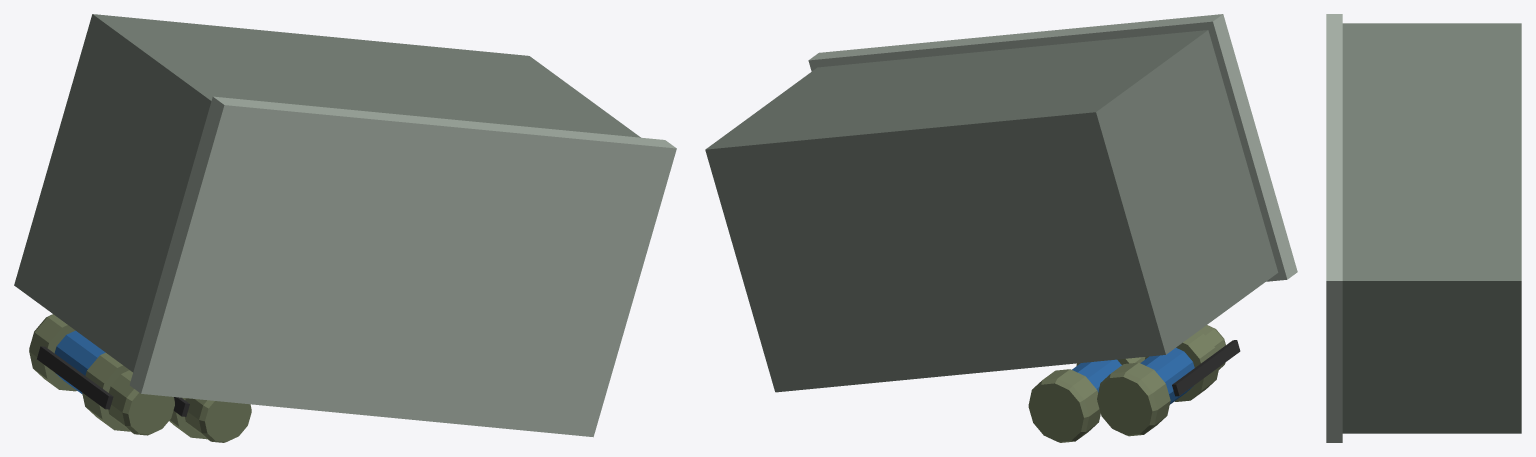
File: ce_handgren_flashbang_c.obj
3 renders of one model, left to right at view 1: azimuth 30°, elevation 25°; view 2: azimuth 150°, elevation 25°; view 3: azimuth 270°, elevation 25°, orthographic. The views are drawn at different scales.
Parts seen in each view (by area): view 1: ce_handgren_flashbang_c_lid, ce_handgren_flashbang_c_crate, ce_handgren_flashbang_c_g0_cap, ce_handgren_flashbang_c_g1_cap, ce_handgren_flashbang_c_g0_rim_low, ce_handgren_flashbang_c_g0_rim_up, ce_handgren_flashbang_c_g0_spoon, ce_handgren_flashbang_c_g0_core; view 2: ce_handgren_flashbang_c_crate, ce_handgren_flashbang_c_lid, ce_handgren_flashbang_c_g0_rim_low, ce_handgren_flashbang_c_g1_rim_low, ce_handgren_flashbang_c_g0_core, ce_handgren_flashbang_c_g0_rim_up, ce_handgren_flashbang_c_g0_spoon, ce_handgren_flashbang_c_g1_core; view 3: ce_handgren_flashbang_c_crate, ce_handgren_flashbang_c_lid.
Part boxes in pixels (bbox=[...]): ce_handgren_flashbang_c_lid: bbox=[129, 96, 676, 437]; ce_handgren_flashbang_c_crate: bbox=[14, 14, 640, 372]; ce_handgren_flashbang_c_g0_cap: bbox=[108, 370, 174, 435]; ce_handgren_flashbang_c_g1_cap: bbox=[185, 398, 251, 442]; ce_handgren_flashbang_c_g0_rim_low: bbox=[29, 314, 76, 391]; ce_handgren_flashbang_c_g0_rim_up: bbox=[82, 352, 130, 431]; ce_handgren_flashbang_c_g0_spoon: bbox=[37, 346, 113, 409]; ce_handgren_flashbang_c_g0_core: bbox=[54, 330, 105, 393]; ce_handgren_flashbang_c_crate: bbox=[705, 30, 1278, 392]; ce_handgren_flashbang_c_lid: bbox=[808, 14, 1297, 281]; ce_handgren_flashbang_c_g0_rim_low: bbox=[1097, 362, 1170, 436]; ce_handgren_flashbang_c_g1_rim_low: bbox=[1028, 369, 1100, 442]; ce_handgren_flashbang_c_g0_core: bbox=[1140, 348, 1194, 404]; ce_handgren_flashbang_c_g0_rim_up: bbox=[1145, 331, 1219, 401]; ce_handgren_flashbang_c_g0_spoon: bbox=[1172, 340, 1240, 396]; ce_handgren_flashbang_c_g1_core: bbox=[1072, 359, 1121, 392]; ce_handgren_flashbang_c_crate: bbox=[1342, 23, 1521, 433]; ce_handgren_flashbang_c_lid: bbox=[1326, 14, 1342, 442].
Bounding box in the file's own units: 0.5324 × 0.4009 × 0.2362.
